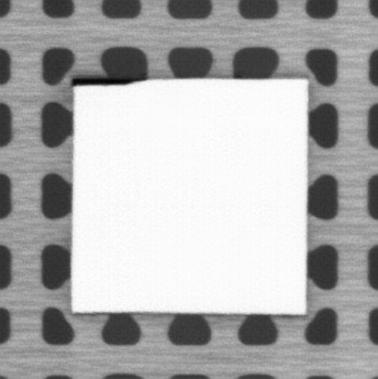DIE_BROKEN: (69, 75, 147, 87)
